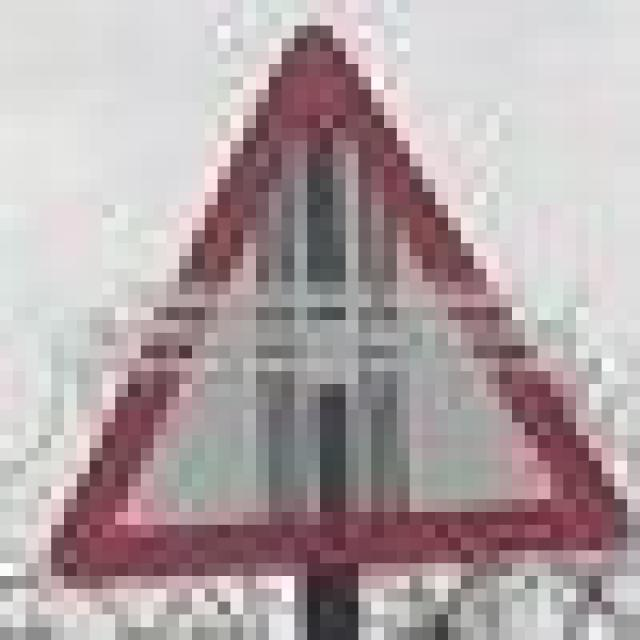ferry: (38, 13, 628, 576)
